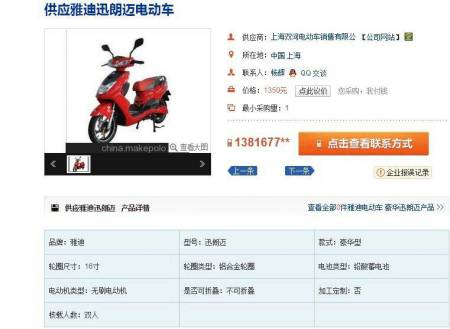电动车: (69, 36, 188, 145)
